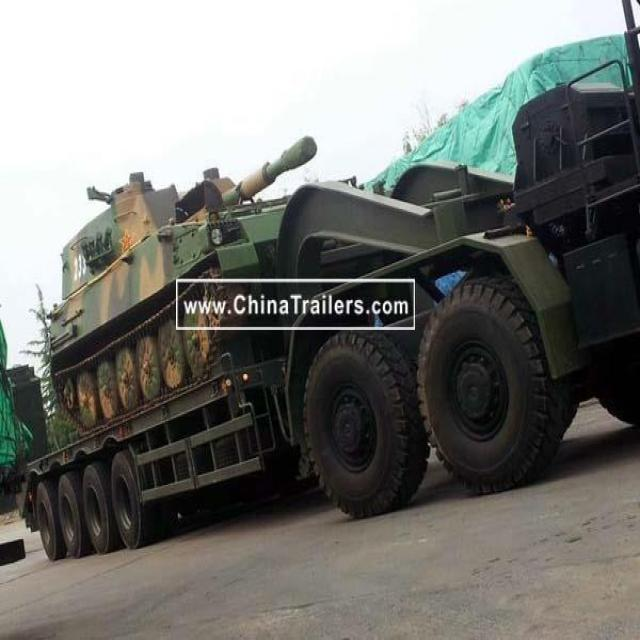Tanks: (16, 168, 242, 374)
